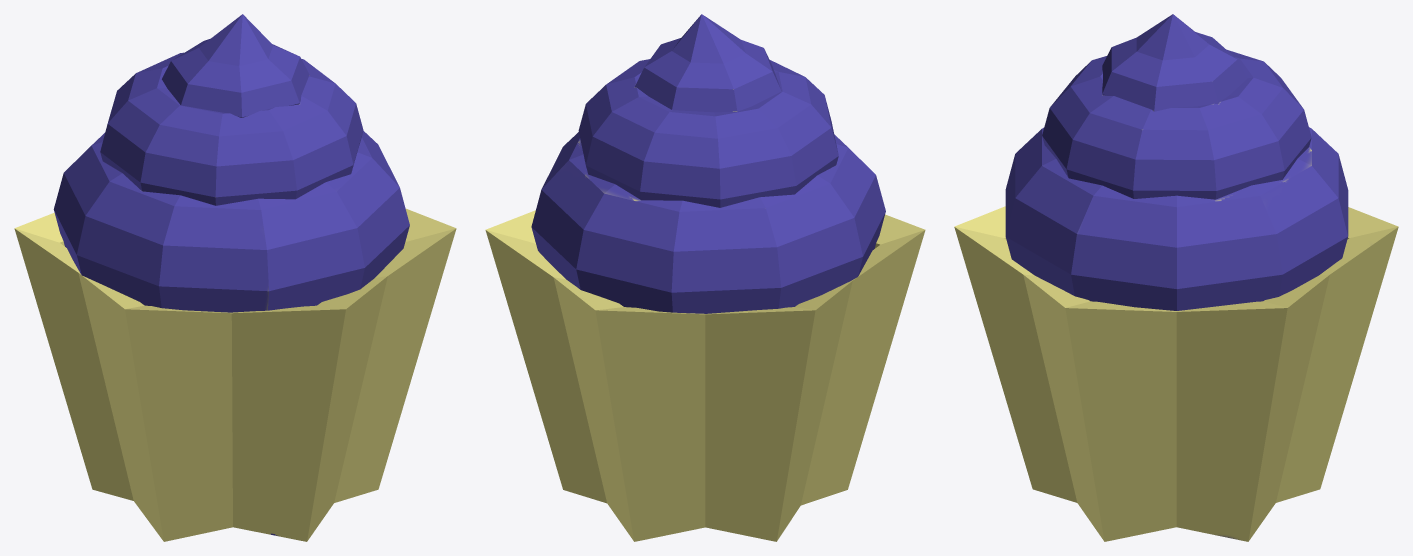
Rendered from Cupcake_1.fbx.
The picture shows the model from 3 angles, left to right: view 1: azimuth 30°, elevation 25°; view 2: azimuth 150°, elevation 25°; view 3: azimuth 270°, elevation 25°; orthographic projection.
Parts seen in each view (by area): view 1: Cupcake one; view 2: Cupcake one; view 3: Cupcake one.
Part boxes in pixels (x1,y1,x2,y2): Cupcake one: [14, 14, 456, 541]; Cupcake one: [485, 14, 925, 541]; Cupcake one: [954, 14, 1398, 541].
Size of the model in its own units: 90.25 by 124 by 104.
